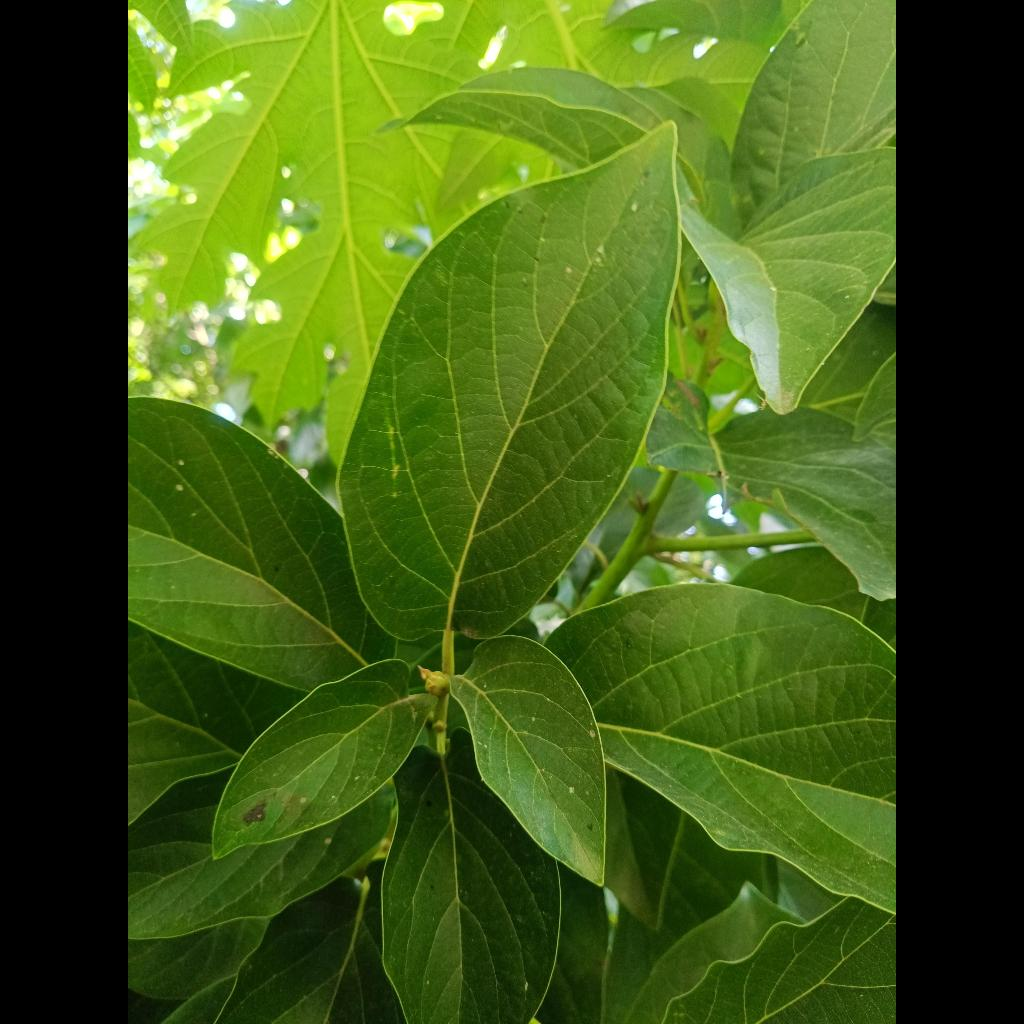Healthy: (339, 124, 680, 638), (451, 636, 605, 885)
